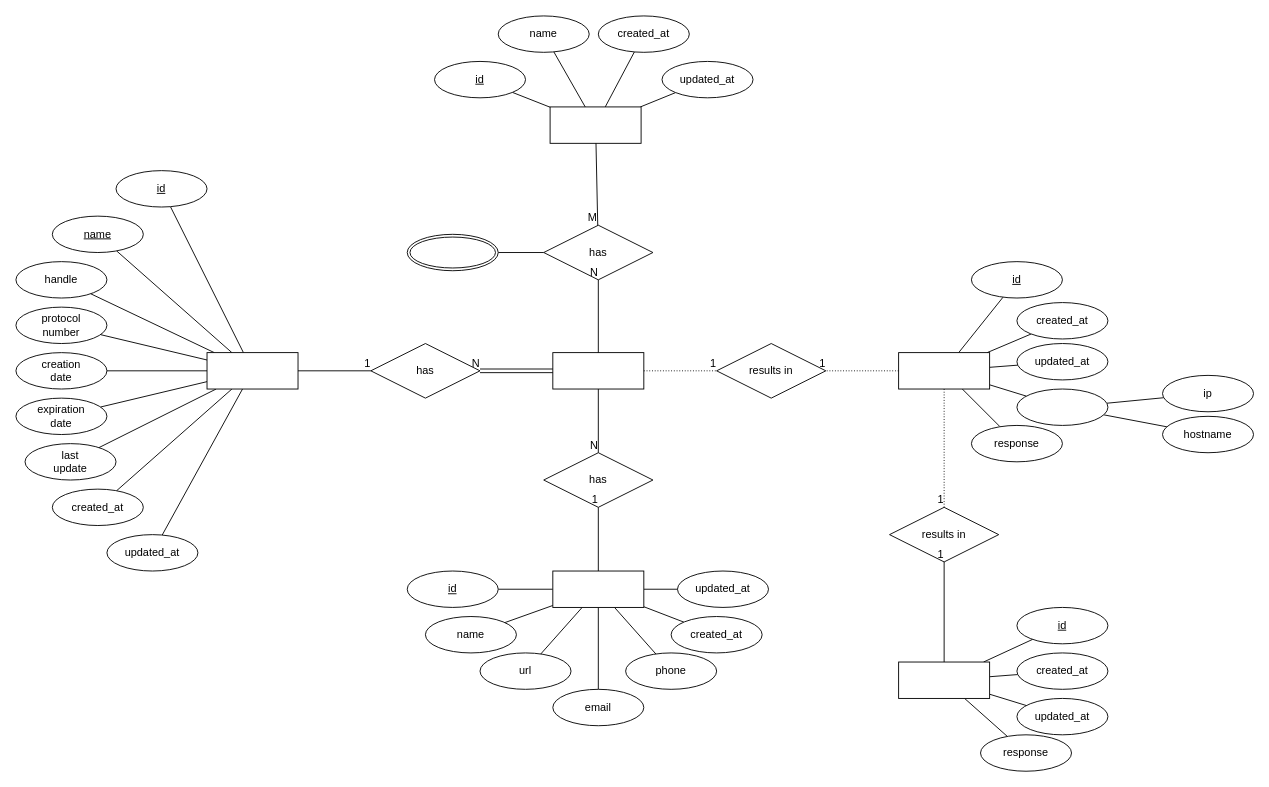
Image size: 1269x787. Some labels were removed from this diagram. The shapes that lost their labels are listed below. From the top down, each one's centre as x and y in pixels, then its label:
At point 595,124: "nameserver".
At point 452,252: "ip address".
At point 252,370: "domain".
At point 598,370: "snapshot".
At point 944,370: "Whois Query".
At point 1062,406: "source".
At point 598,588: "registrar".
At point 944,679: "Registry Query".
